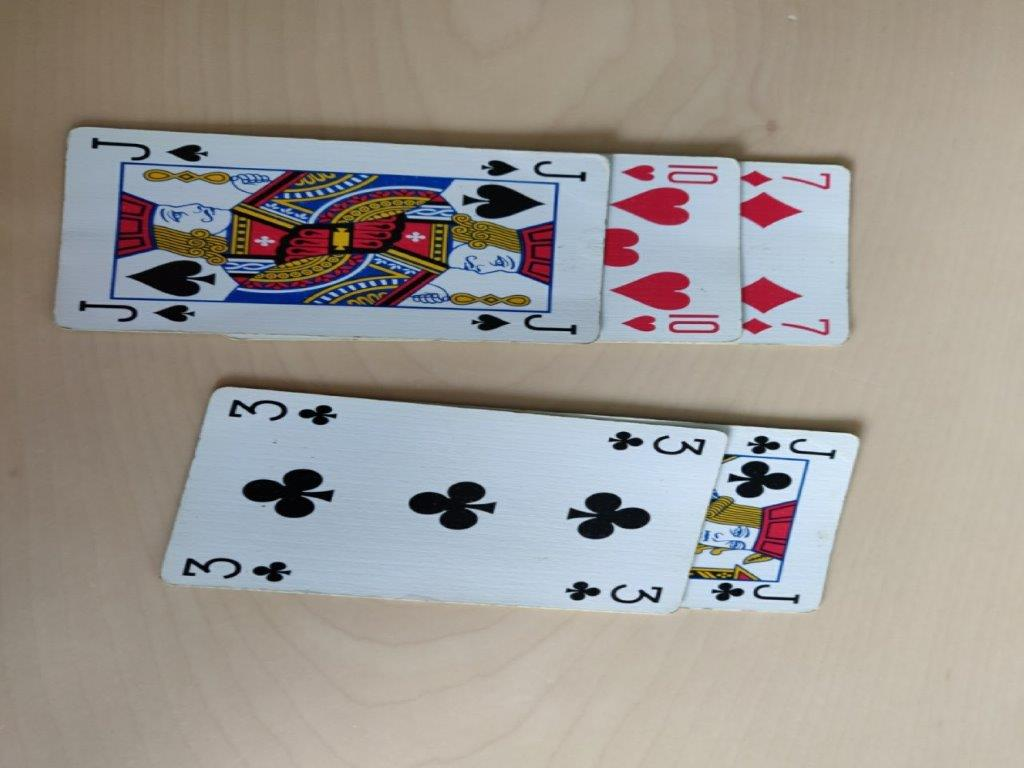10H: (595, 146, 735, 349)
3C: (166, 389, 706, 637)
7D: (735, 144, 857, 362)
JC: (712, 427, 856, 629)
JS: (69, 130, 595, 344)
